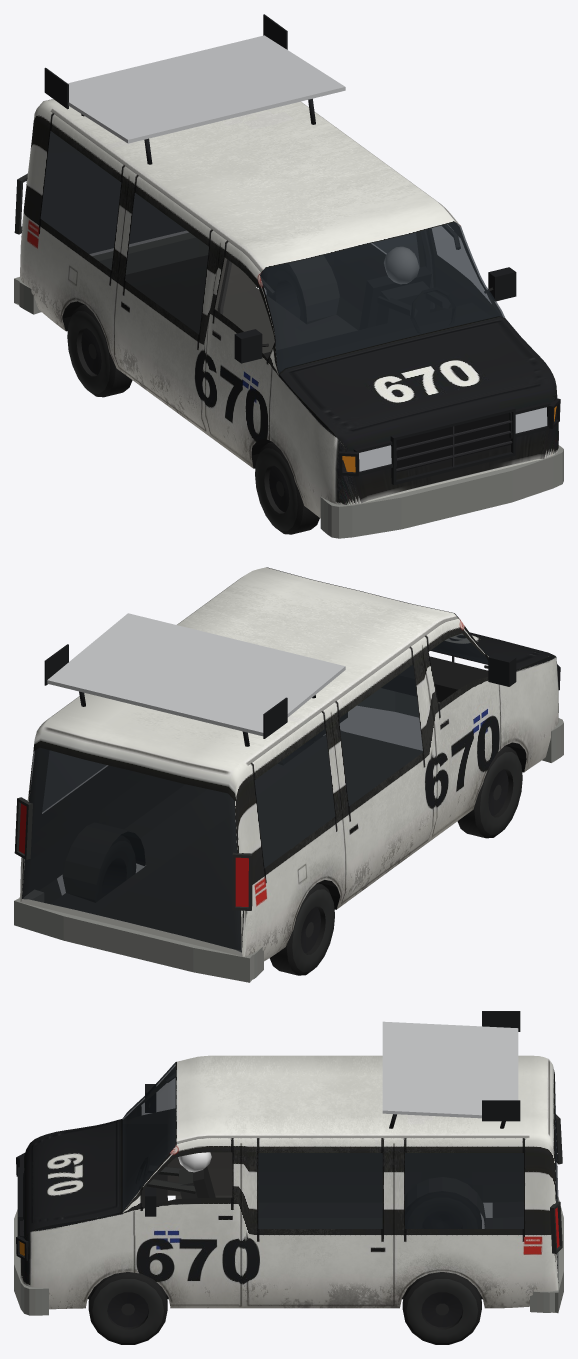
3 views of the same model, one above another, from view 1: azimuth 30°, elevation 25°; view 2: azimuth 150°, elevation 25°; view 3: azimuth 270°, elevation 25° (orthographic). The views are drawn at different scales.
Visible parts, largest first — view 1: body, wheel_fr, wheel_rr, wheel_rl; view 2: body, wheel_fr, wheel_rr, wheel_rl; view 3: body, wheel_fl, wheel_rl, wheel_rr.
Part boxes in pixels (bbox=[...]): body: bbox=[14, 14, 563, 538]; wheel_fr: bbox=[255, 442, 319, 534]; wheel_rr: bbox=[67, 304, 132, 397]; wheel_rl: bbox=[266, 263, 306, 323]; body: bbox=[14, 567, 563, 982]; wheel_fr: bbox=[457, 746, 522, 838]; wheel_rr: bbox=[269, 883, 334, 975]; wheel_rl: bbox=[95, 835, 135, 901]; body: bbox=[14, 1011, 563, 1315]; wheel_fl: bbox=[88, 1272, 167, 1344]; wheel_rl: bbox=[402, 1272, 481, 1344]; wheel_rr: bbox=[405, 1191, 481, 1228].
Bounding box in the file's own units: 2.35 × 2.38 × 4.87.
2 materials, 1 textured.
